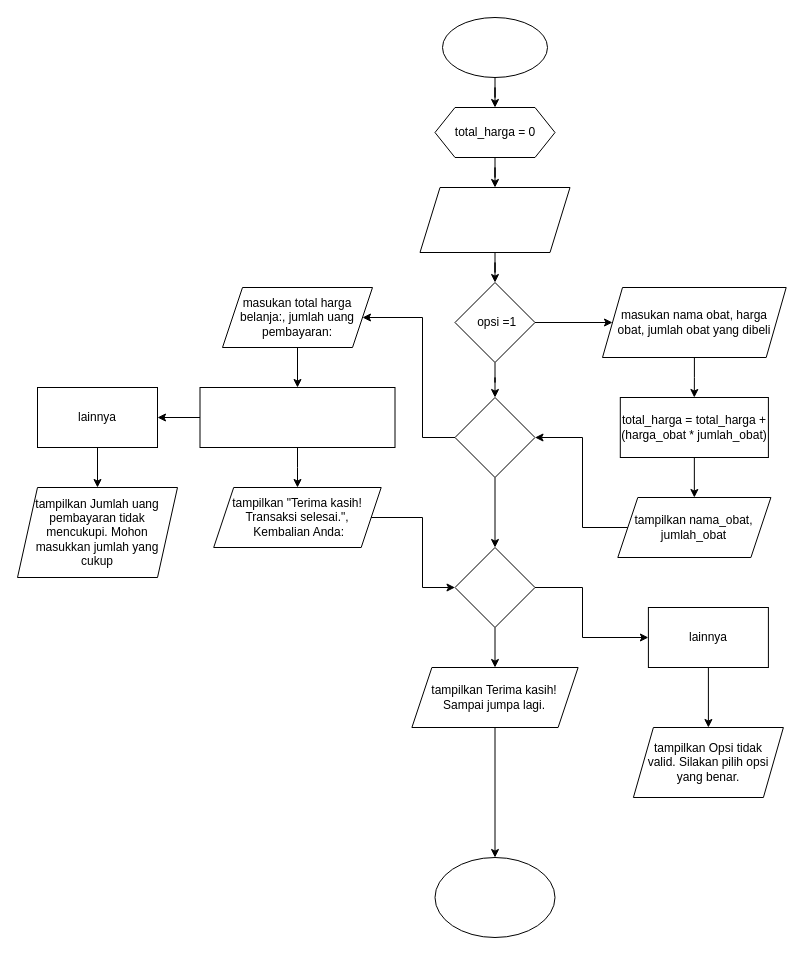
Some shapes in this 804 by 955 pixel diagram are drawn without their labels. The shapes that lost their labels are listed below. From the top down, each one's centre as x and y in pixels, then its label:
point 495,47: Mulai
point 494,219: tampilkan "Selamat datang di sistem kasir apotek"
point 297,417: jumlah_pembayaran = total_harga +kembalian (jumlah_pembayaran - total_harga
point 494,437: opsi =2
point 494,587: opsi =3
point 494,897: Selesai
